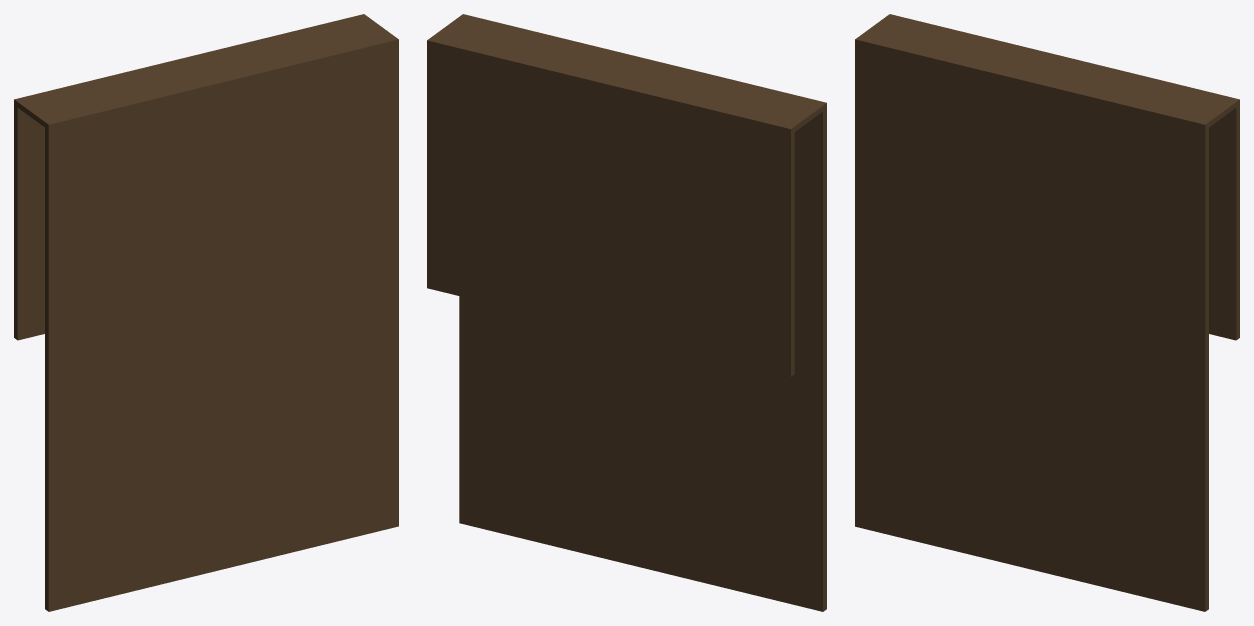
File: Itr_Towel_03.FBX
3 views of the same model, side by side, from view 1: azimuth 30°, elevation 25°; view 2: azimuth 150°, elevation 25°; view 3: azimuth 330°, elevation 25° (orthographic). The views are drawn at different scales.
Parts seen in each view (by area): view 1: Itr_Towel_03; view 2: Itr_Towel_03; view 3: Itr_Towel_03.
Boxes of the visible parts, x1=… form: Itr_Towel_03: x1=14, y1=14, x2=398, y2=611; Itr_Towel_03: x1=427, y1=14, x2=826, y2=611; Itr_Towel_03: x1=855, y1=14, x2=1239, y2=611.
Size of the model in its own units: 17.26 by 22.96 by 2.97.
